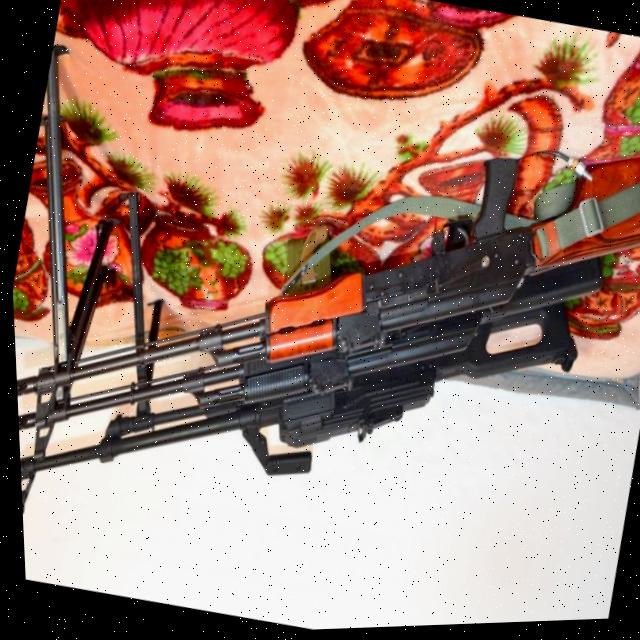firearm: (2, 39, 640, 524), (6, 152, 611, 571), (8, 204, 587, 625)
